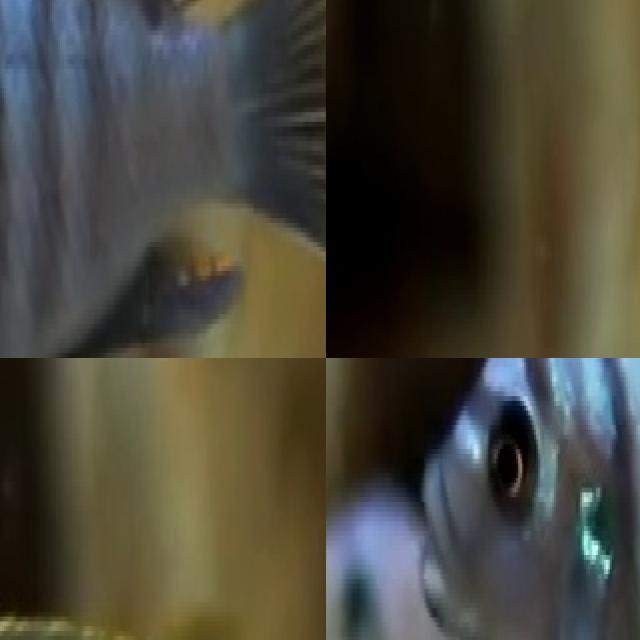fish: (0, 0, 326, 358), (326, 497, 640, 640)
